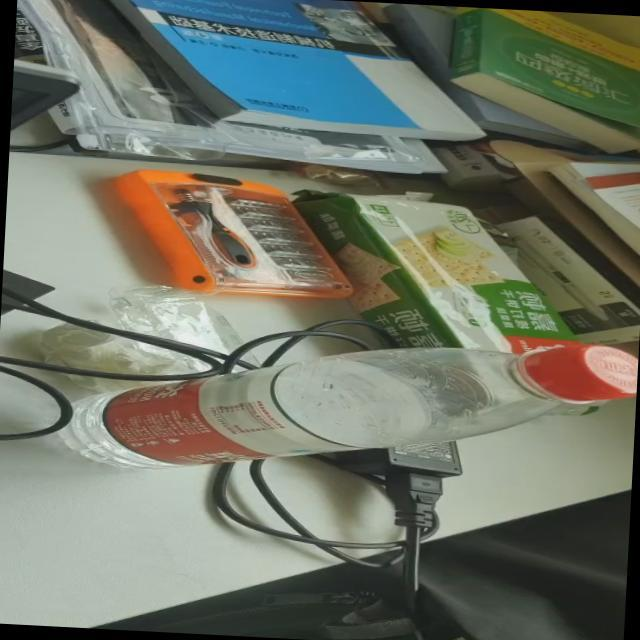good: (38, 320, 630, 496)
